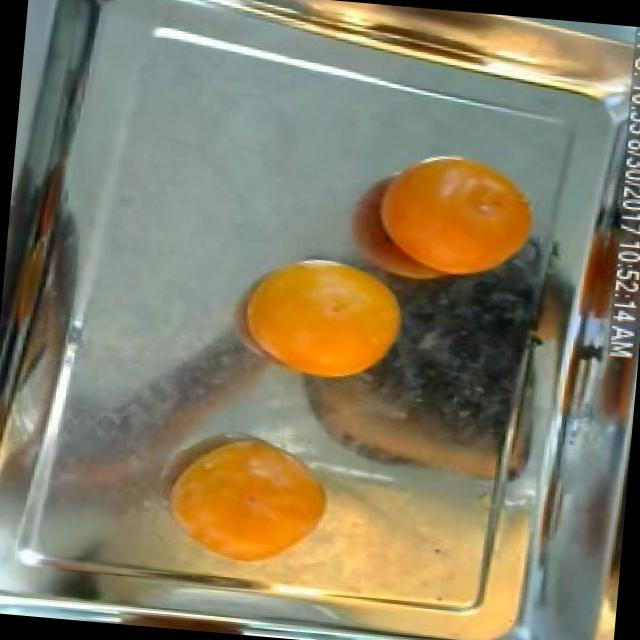Fruit: (348, 135, 552, 301), (213, 238, 423, 396)
